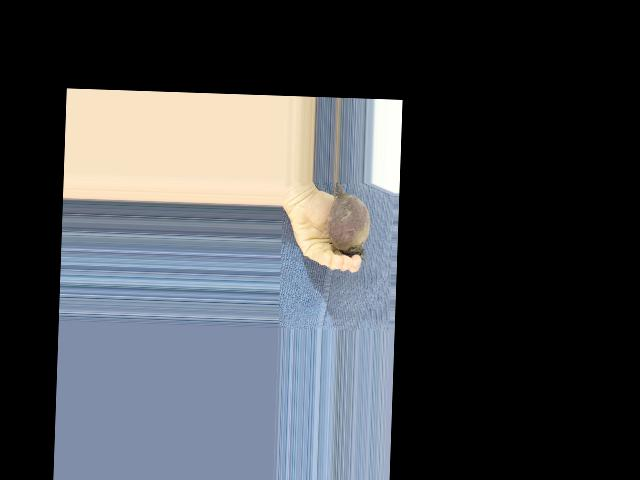beet: (325, 182, 370, 261)
